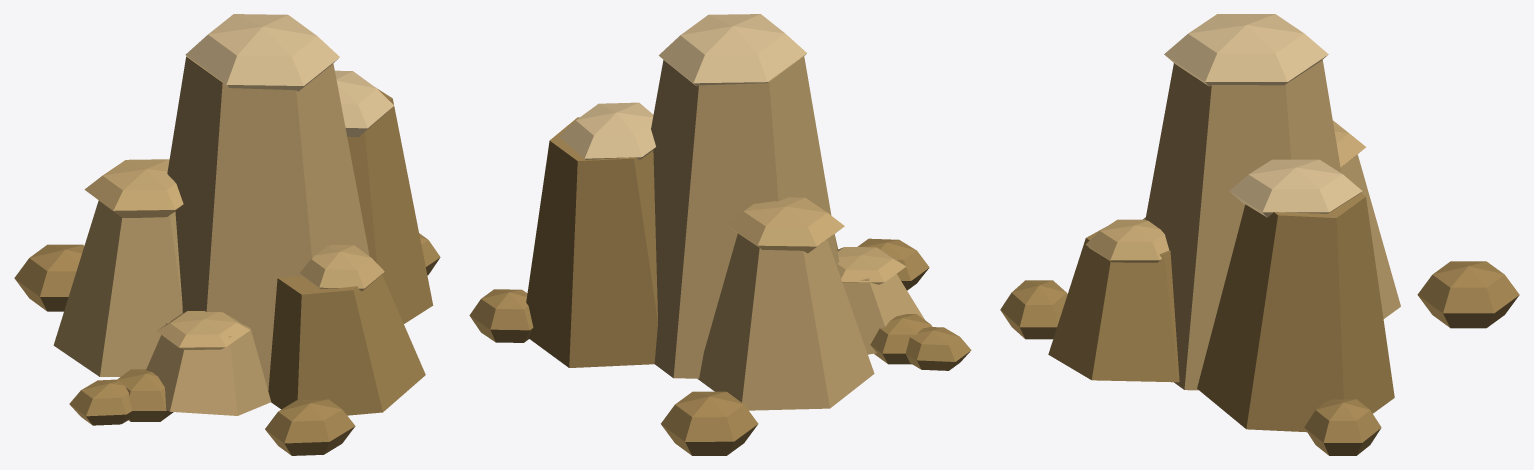
File: outcrop_sandstone.glb
3 views of the same model, side by side, from view 1: azimuth 30°, elevation 25°; view 2: azimuth 150°, elevation 25°; view 3: azimuth 270°, elevation 25° (orthographic). The views are drawn at different scales.
Visible parts, largest first — view 1: scatter_rocks_sandstone_outcrop; view 2: scatter_rocks_sandstone_outcrop; view 3: scatter_rocks_sandstone_outcrop.
Boxes of the visible parts, left/top/right/bottom form: scatter_rocks_sandstone_outcrop: left=14, top=14, right=440, bottom=455; scatter_rocks_sandstone_outcrop: left=469, top=14, right=971, bottom=455; scatter_rocks_sandstone_outcrop: left=1000, top=14, right=1519, bottom=455.
Size of the model in its own units: 4.01 by 3.04 by 4.2.
